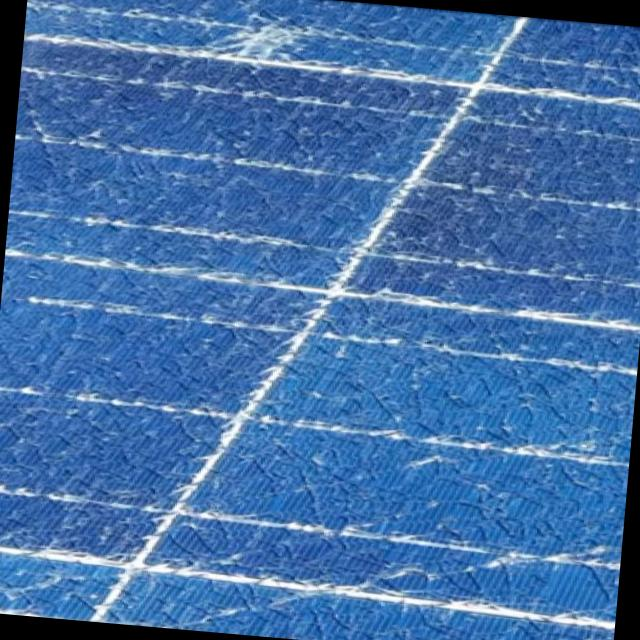faulty: (42, 0, 640, 638), (177, 0, 336, 111)
